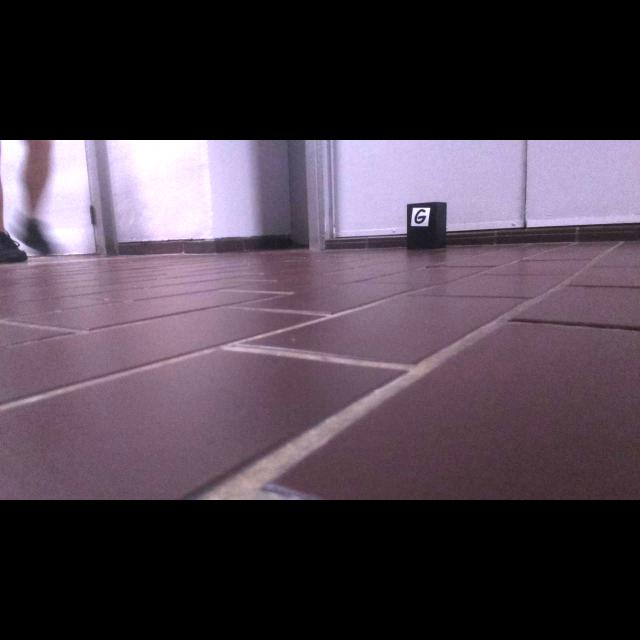G: (414, 209, 426, 224)
